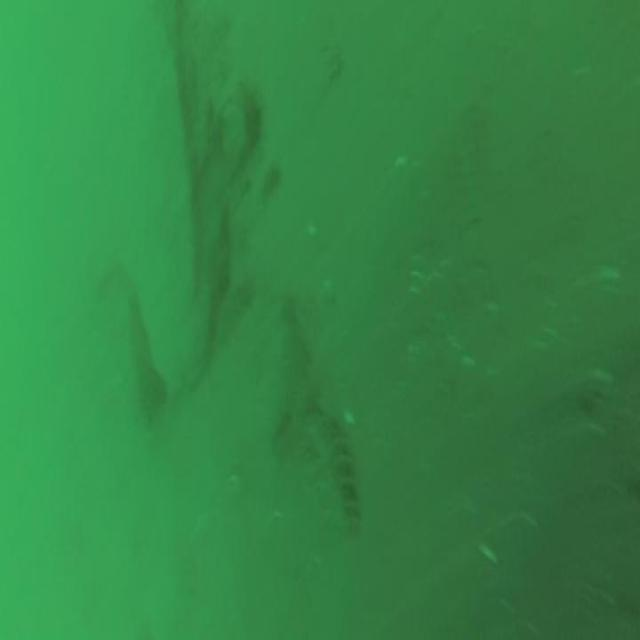holothurian: (316, 400, 361, 534), (211, 274, 254, 344), (256, 160, 283, 202)
